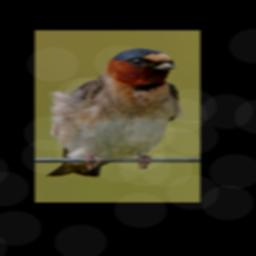Swallow: (46, 48, 184, 178)
